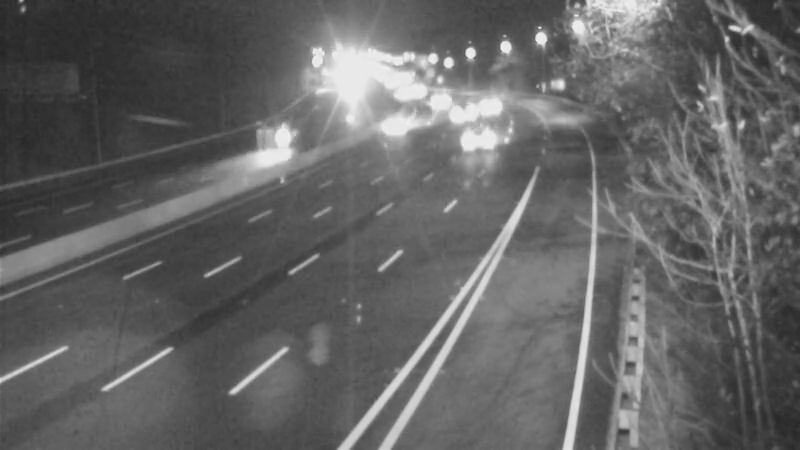vehicle: (377, 69, 427, 119), (416, 73, 466, 123), (463, 77, 513, 127), (441, 86, 491, 136), (374, 98, 424, 148), (459, 119, 509, 169), (257, 109, 307, 159)
